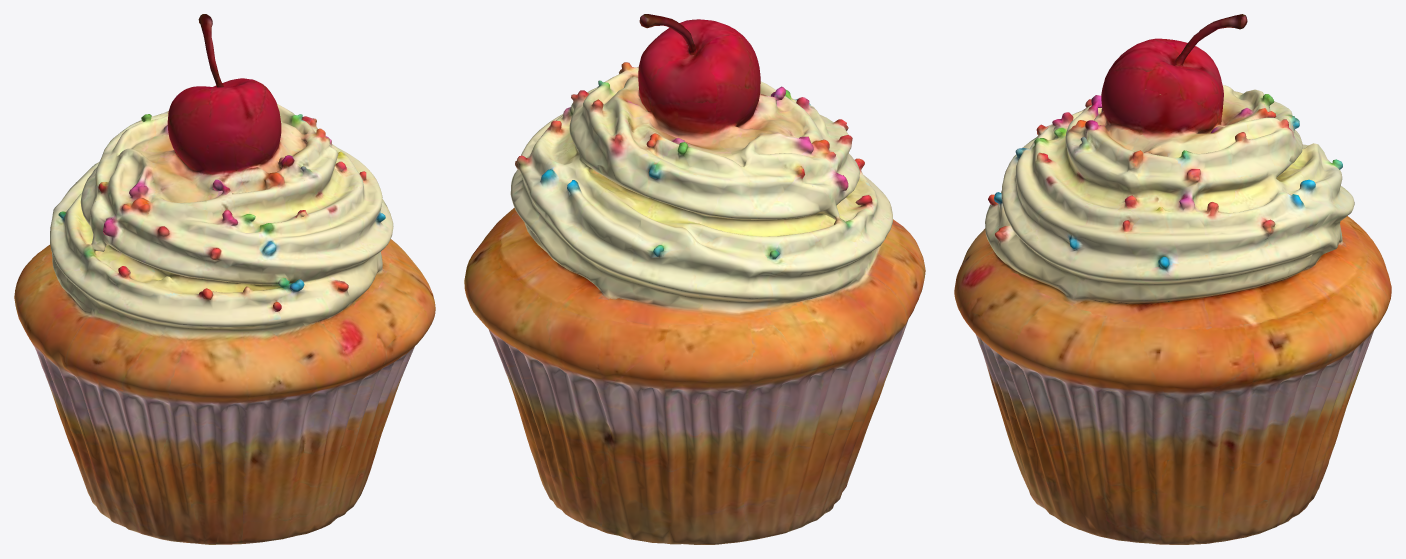
3 views of the same model, side by side, from view 1: azimuth 30°, elevation 25°; view 2: azimuth 150°, elevation 25°; view 3: azimuth 270°, elevation 25° (orthographic). The views are drawn at different scales.
Bounding box in the file's own units: 1.64 × 1.99 × 1.65.
1 material, 1 textured.
